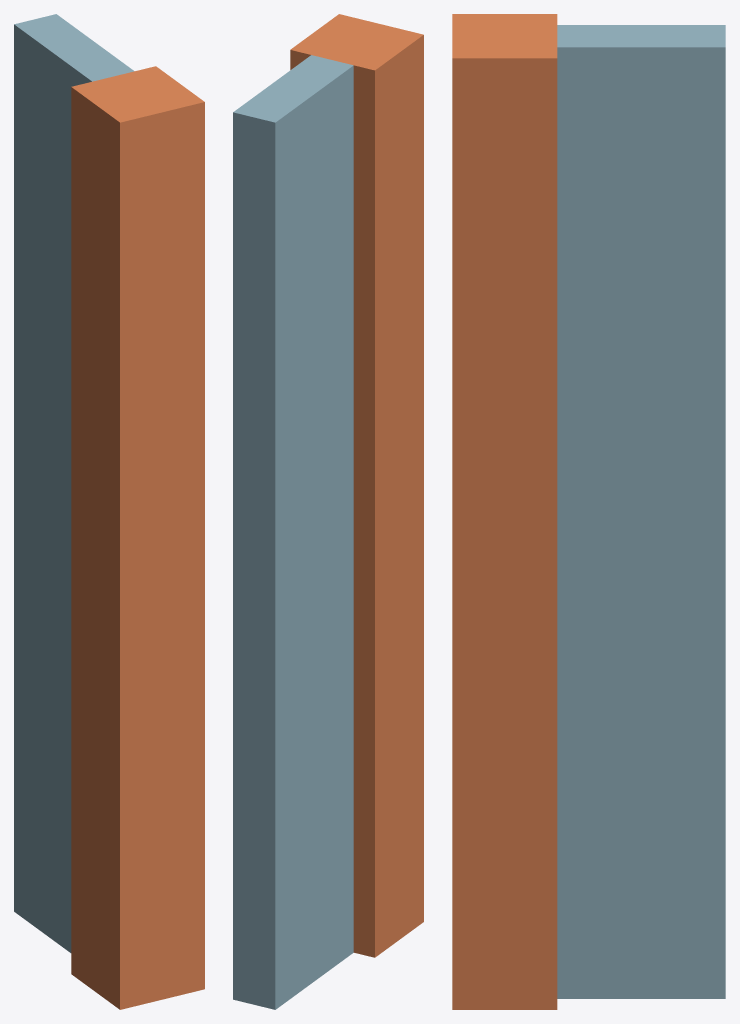
Rendered from wallSide.fbx.
The picture shows the model from 3 angles, left to right: view 1: azimuth 30°, elevation 25°; view 2: azimuth 150°, elevation 25°; view 3: azimuth 270°, elevation 25°; orthographic projection. The views are drawn at different scales.
Visible parts, largest first — view 1: wallSide; view 2: wallSide; view 3: wallSide.
Boxes of the visible parts, left/top/right/bottom form: wallSide: left=14, top=14, right=204, bottom=1009; wallSide: left=233, top=14, right=423, bottom=1009; wallSide: left=452, top=14, right=725, bottom=1009.
Size of the model in its own units: 1 by 10 by 2.6.
